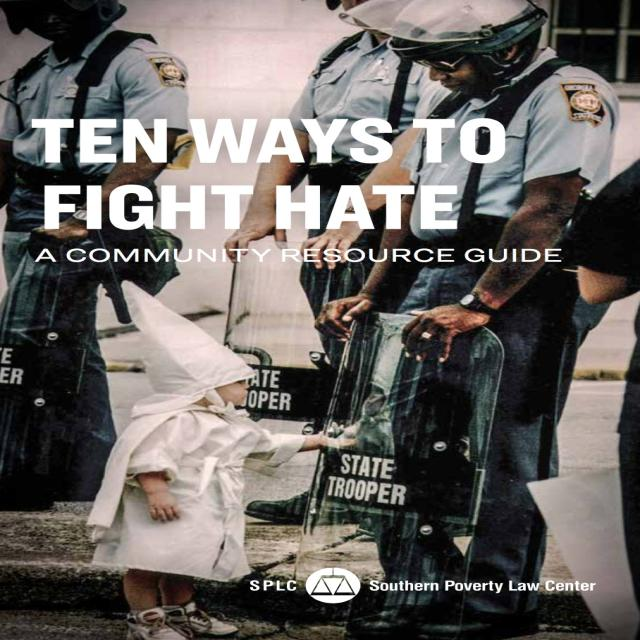body: (306, 0, 625, 640), (219, 1, 441, 528), (0, 0, 201, 519), (80, 272, 362, 640), (596, 157, 636, 640)
